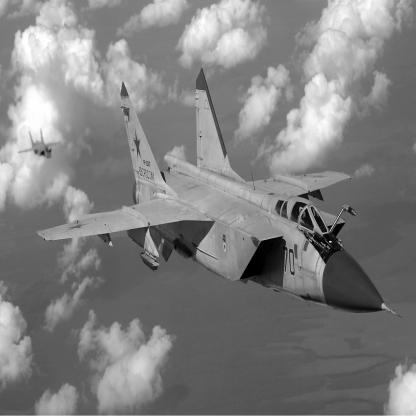Mig31: (38, 68, 405, 321), (19, 129, 62, 159)
